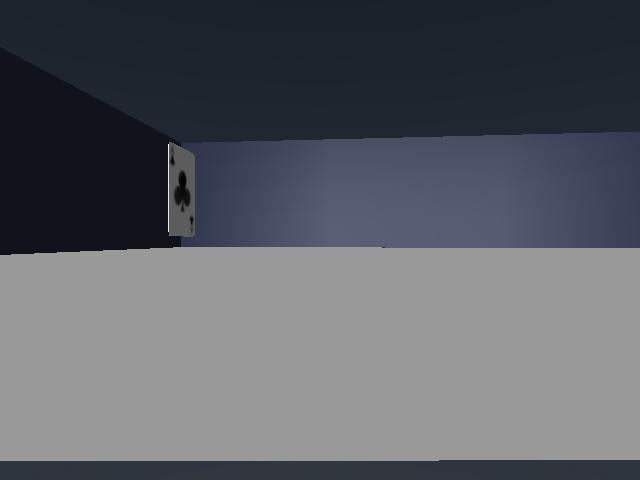club: (168, 143, 194, 236)
